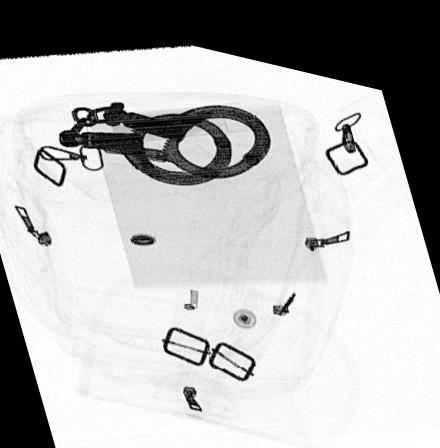HandCuffs: (54, 92, 269, 176)
